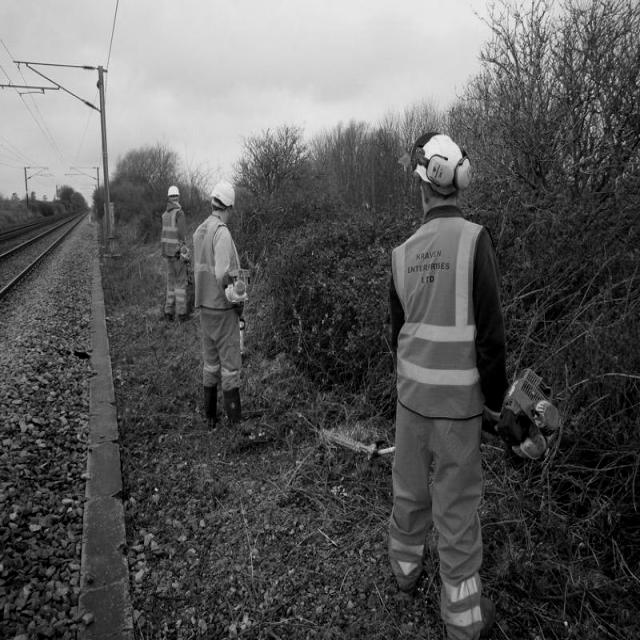head_helmet: (409, 133, 472, 192), (210, 178, 237, 205), (166, 185, 179, 198)
person: (386, 132, 508, 640), (193, 182, 251, 424), (158, 184, 192, 326)
shoes: (197, 380, 219, 421), (226, 386, 242, 424)
vest: (390, 218, 489, 416), (191, 216, 241, 310), (159, 207, 187, 260)
